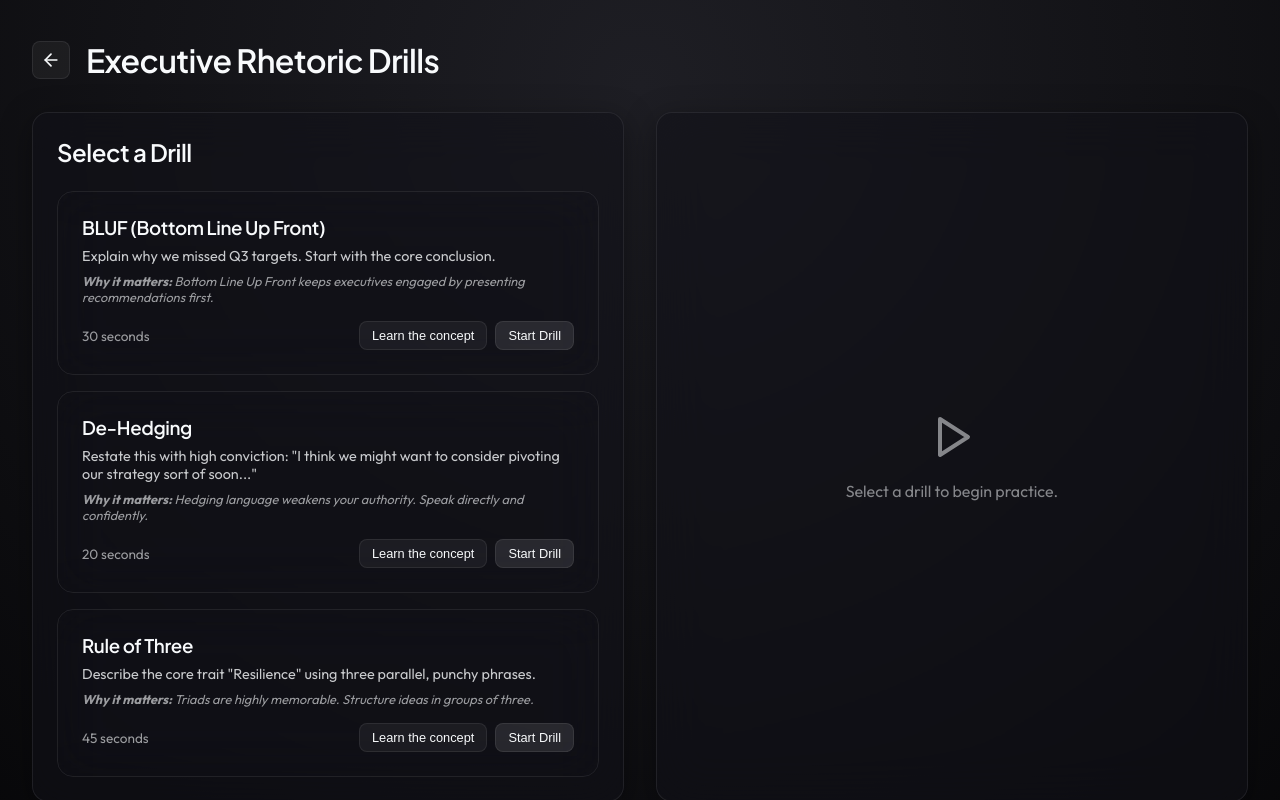
Test: Drills Component › allows starting a drill and shows the active drill and explanation
This screenshot has width=1280, height=800.
Click the button "Start Drill" in the row of "30" at point(535, 336), box [495,321,574,350]
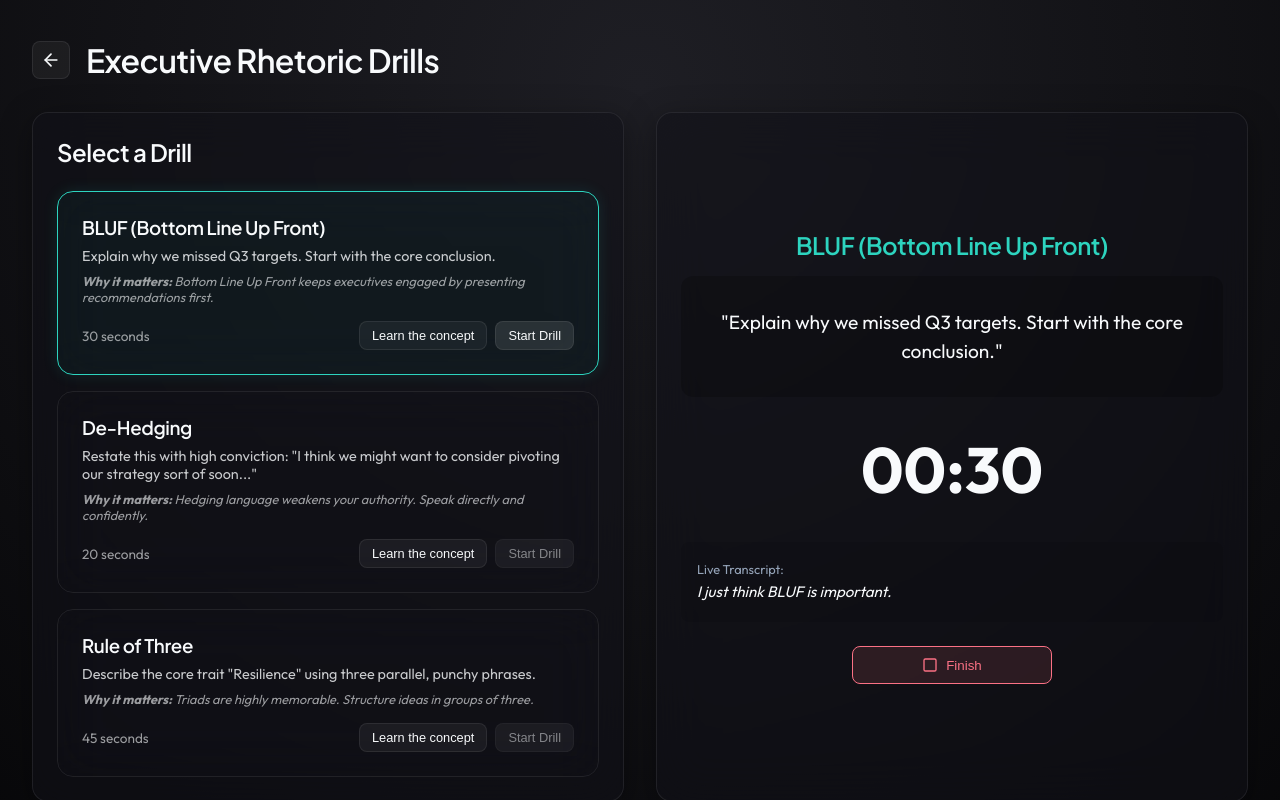
Check: the text "Explain why we missed Q3 targets" is shown 2 times, box [82,247,496,265]; [713,308,1191,365]
